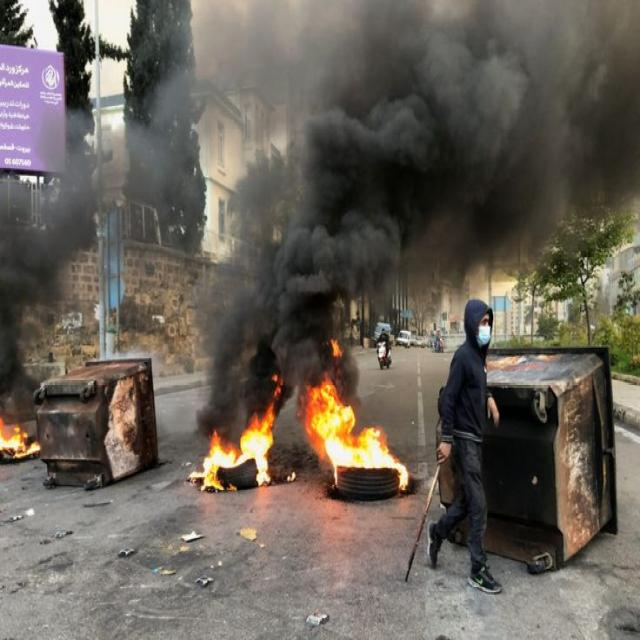fire: (306, 377, 404, 469), (236, 403, 274, 485), (201, 430, 235, 491), (1, 414, 41, 458)
